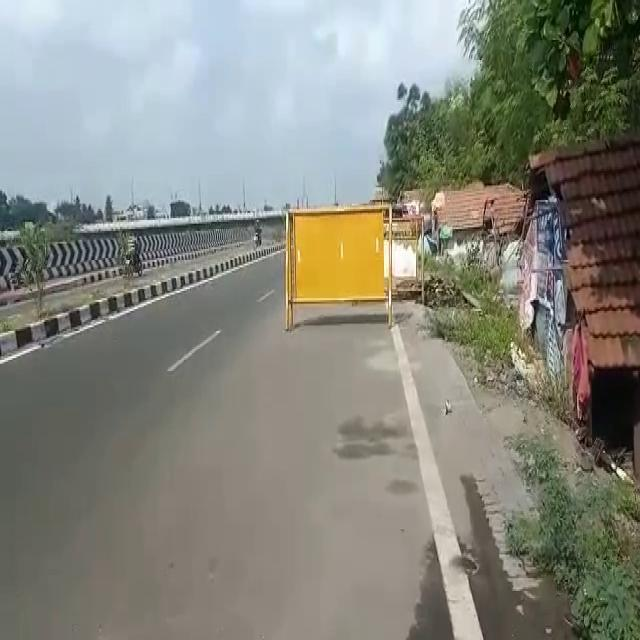fallen_object: (255, 187, 417, 341)
